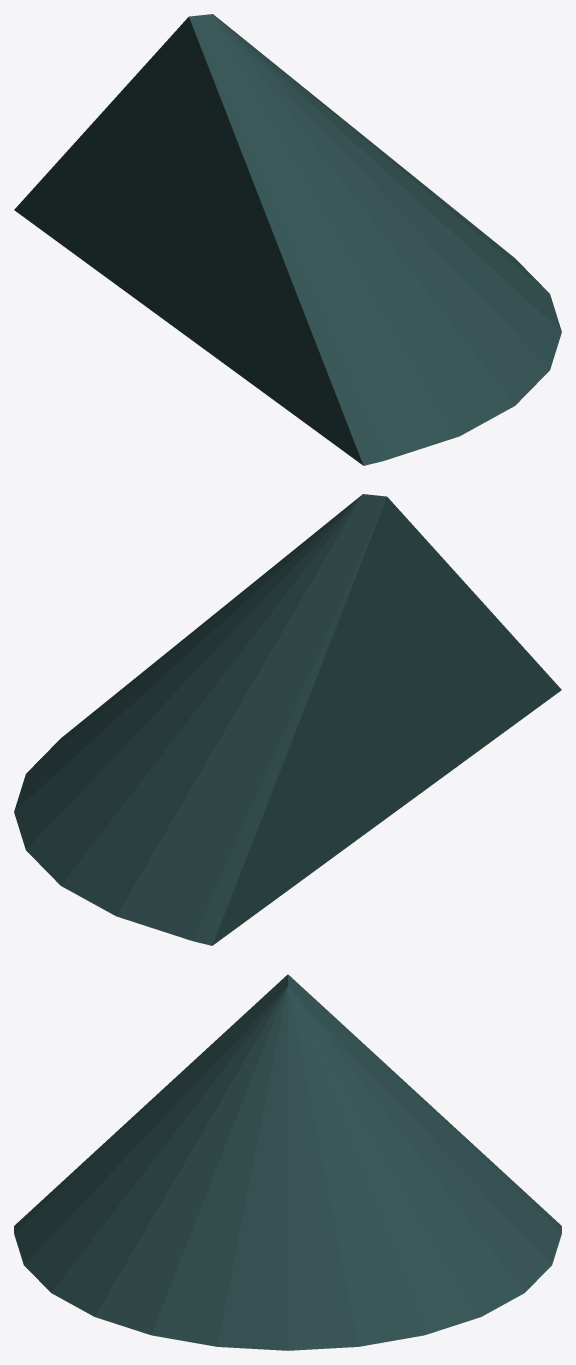
The model's file is Prop_Gothic_Building_Roof_Top_Triangle_End_Round__01.FBX.
3 views of the same model, one above another, from view 1: azimuth 30°, elevation 25°; view 2: azimuth 150°, elevation 25°; view 3: azimuth 270°, elevation 25° (orthographic). The views are drawn at different scales.
Visible parts, largest first — view 1: Prop_Gothic_Building_Roof_Top_Triangle_End_Round__01; view 2: Prop_Gothic_Building_Roof_Top_Triangle_End_Round__01; view 3: Prop_Gothic_Building_Roof_Top_Triangle_End_Round__01.
Boxes of the visible parts, box(x1,y1,x2,y2) form: Prop_Gothic_Building_Roof_Top_Triangle_End_Round__01: box(14, 14, 561, 465); Prop_Gothic_Building_Roof_Top_Triangle_End_Round__01: box(14, 494, 561, 945); Prop_Gothic_Building_Roof_Top_Triangle_End_Round__01: box(14, 974, 561, 1350).
Size of the model in its own units: 5260 by 4950 by 9760.
